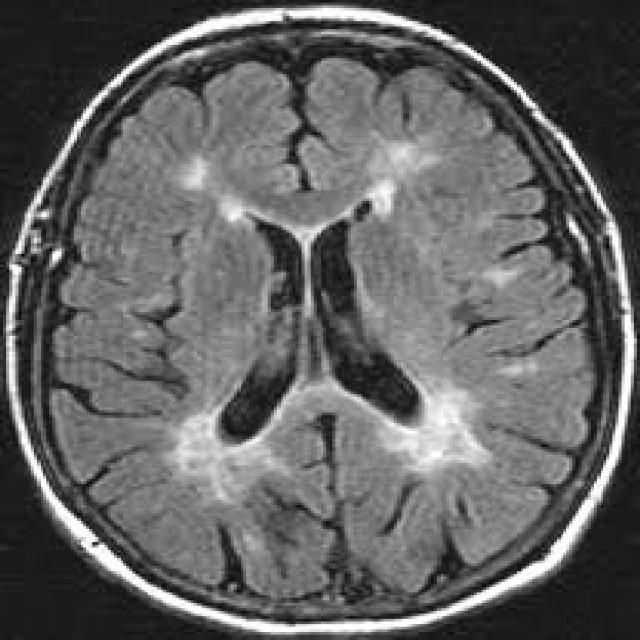notumor: (9, 8, 637, 632)
